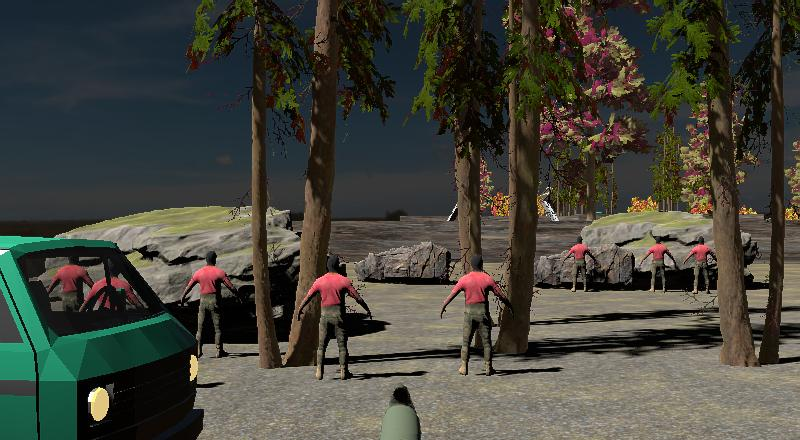Human: (297, 253, 374, 382), (437, 253, 506, 377), (180, 252, 240, 359), (46, 251, 97, 331), (46, 251, 95, 330), (561, 234, 599, 295), (641, 235, 679, 295), (683, 235, 719, 297)
car: (1, 233, 205, 439)
